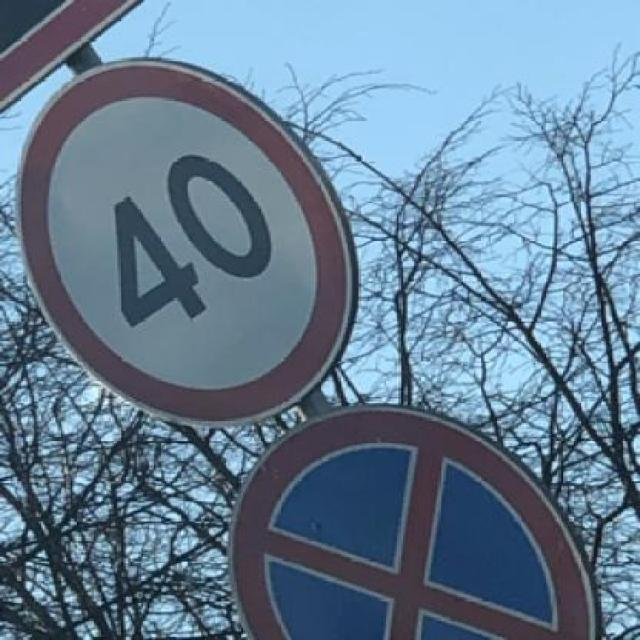forb_speed_over_40: (16, 63, 352, 419)
